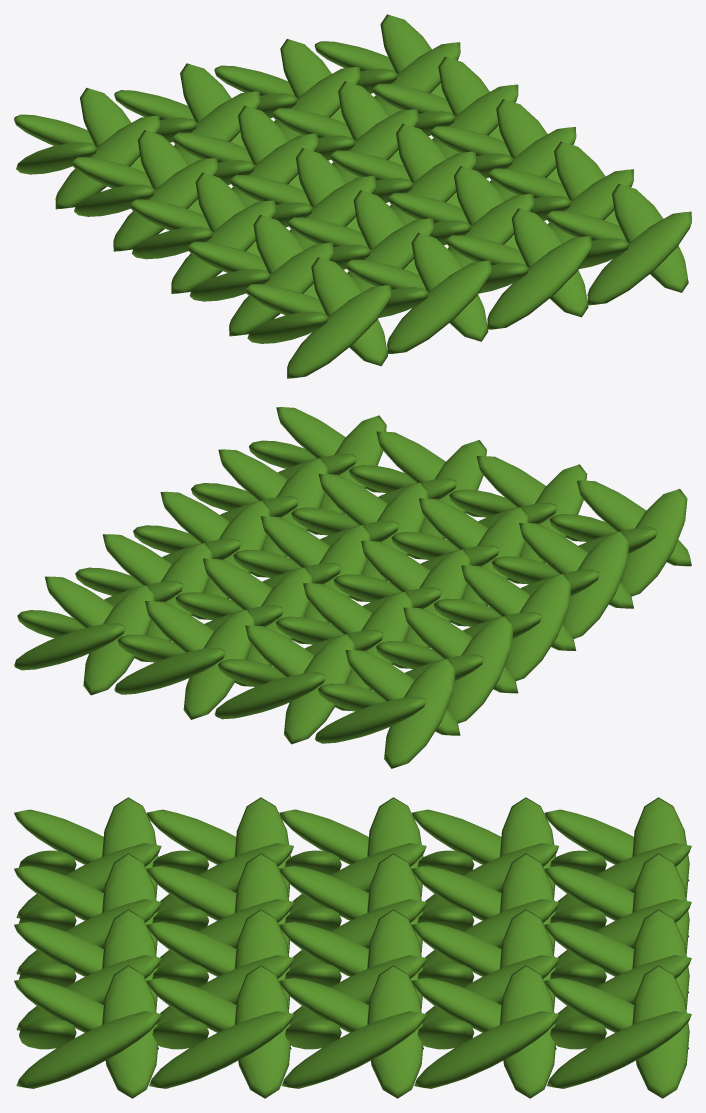
Rendered from NJD-18.glb.
3 views of the same model, one above another, from view 1: azimuth 30°, elevation 25°; view 2: azimuth 150°, elevation 25°; view 3: azimuth 270°, elevation 25° (orthographic). The views are drawn at different scales.
Parts seen in each view (by area): view 1: crop leaf.011, crop leaf.015, crop leaf.007, crop leaf.003, crop leaf.008, crop leaf.004, crop leaf, crop leaf.012, crop leaf.051, crop leaf.067, crop leaf.035, crop leaf.019 (+68 smaller); view 2: crop leaf.066, crop leaf.034, crop leaf.002, crop leaf.018, crop leaf.050, crop leaf.078, crop leaf.074, crop leaf.070, crop leaf.065, crop leaf.077, crop leaf.073, crop leaf.069 (+68 smaller); view 3: crop leaf.060, crop leaf.077, crop leaf.044, crop leaf.076, crop leaf.028, crop leaf.012, crop leaf.029, crop leaf.013, crop leaf.045, crop leaf.061, crop leaf.046, crop leaf.070 (+68 smaller).
Boxes of the visible parts, x1,y1,x2,y2 form: crop leaf.011: [487, 236, 591, 329]; crop leaf.015: [587, 211, 691, 305]; crop leaf.007: [387, 260, 491, 353]; crop leaf.003: [287, 285, 391, 378]; crop leaf.008: [511, 208, 588, 317]; crop leaf.004: [411, 232, 488, 341]; crop leaf: [311, 257, 387, 366]; crop leaf.012: [612, 183, 688, 292]; crop leaf.051: [113, 158, 217, 251]; crop leaf.067: [55, 115, 159, 209]; crop leaf.035: [171, 200, 275, 293]; crop leaf.019: [229, 242, 333, 336]; crop leaf.066: [384, 658, 455, 768]; crop leaf.034: [504, 573, 571, 680]; crop leaf.002: [620, 489, 687, 596]; crop leaf.018: [562, 531, 629, 638]; crop leaf.050: [447, 616, 513, 723]; crop leaf.078: [83, 585, 155, 695]; crop leaf.074: [183, 609, 255, 719]; crop leaf.070: [284, 634, 355, 744]; crop leaf.065: [314, 696, 426, 743]; crop leaf.077: [14, 623, 125, 670]; crop leaf.073: [114, 647, 225, 694]; crop leaf.069: [214, 672, 325, 719]; crop leaf.060: [414, 1011, 559, 1088]; crop leaf.077: [632, 965, 689, 1098]; crop leaf.044: [281, 1011, 426, 1088]; crop leaf.076: [546, 1011, 691, 1088]; crop leaf.028: [149, 1011, 293, 1088]; crop leaf.012: [16, 1011, 161, 1088]; crop leaf.029: [234, 965, 290, 1098]; crop leaf.013: [102, 965, 158, 1098]; crop leaf.045: [367, 965, 423, 1098]; crop leaf.061: [499, 965, 555, 1098]; crop leaf.046: [279, 977, 423, 1049]; crop leaf.070: [544, 865, 688, 937].
Size of the model in its own units: 1.32 by 0.2007 by 1.64.
